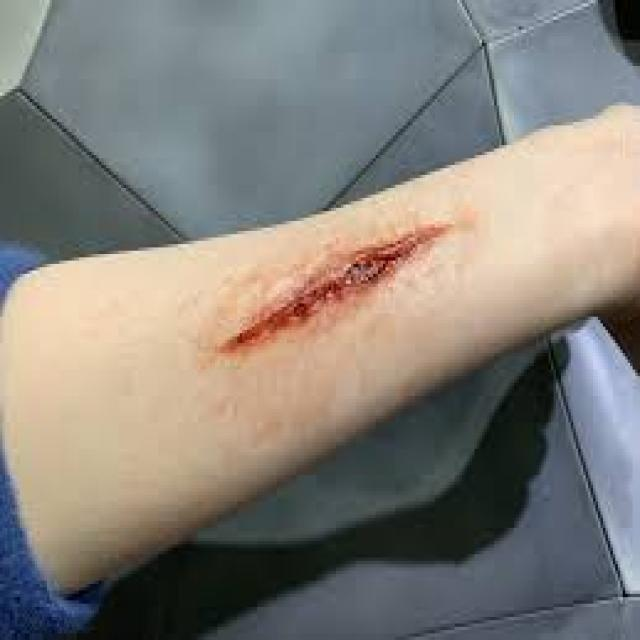wound: (185, 211, 461, 384)
